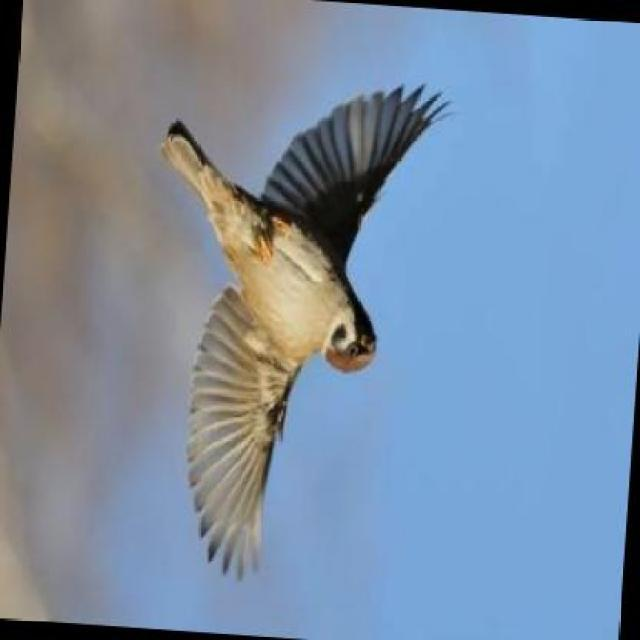Bird: (152, 90, 447, 593)
